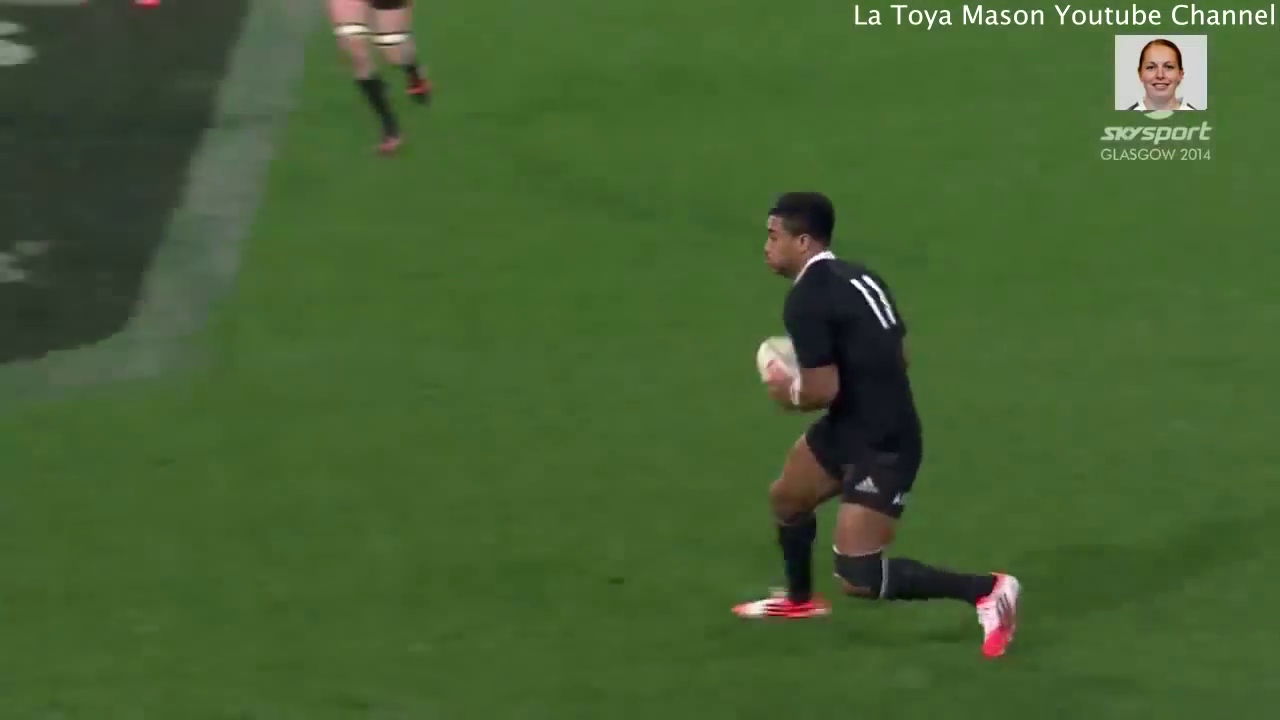ball: (744, 318, 824, 420)
player: (702, 181, 1048, 668)
